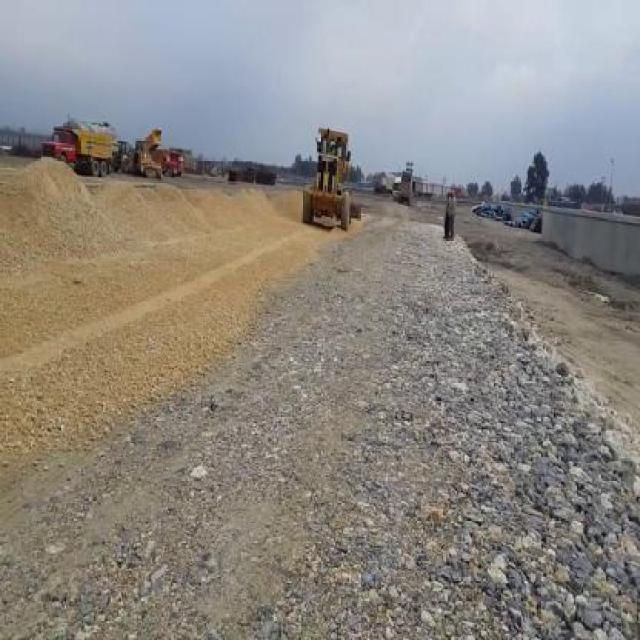dump_truck: (398, 168, 412, 206)
